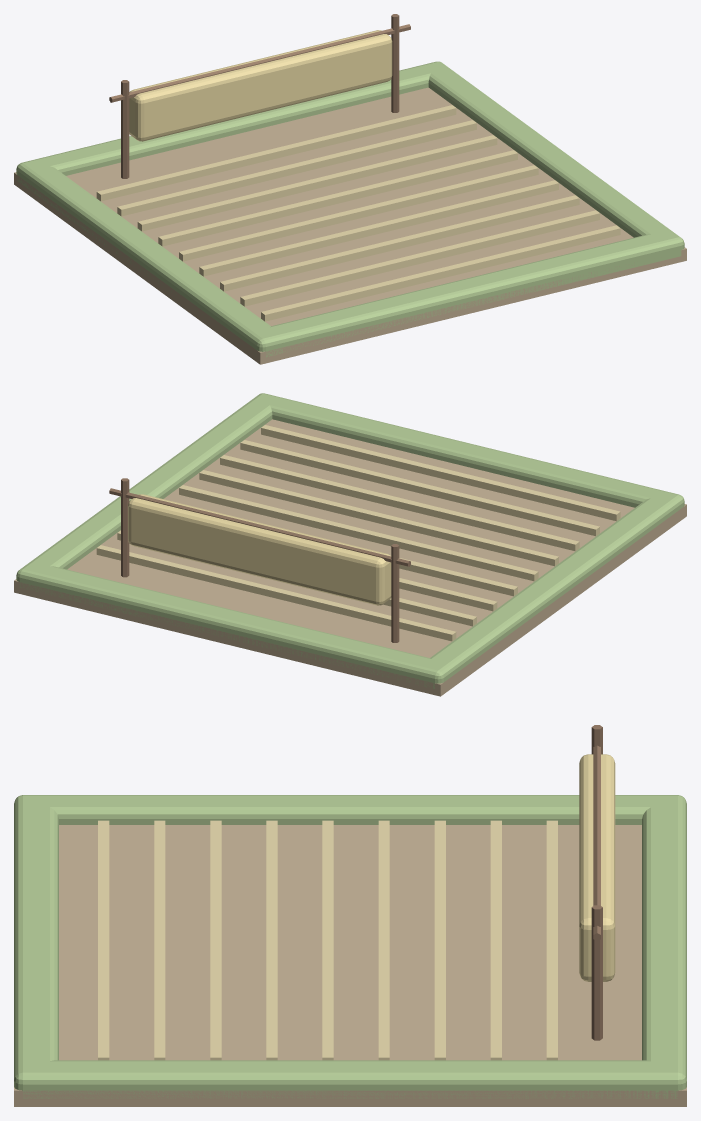
Rendered from paddy.glb.
The picture shows the model from 3 angles, top to bottom: view 1: azimuth 30°, elevation 25°; view 2: azimuth 150°, elevation 25°; view 3: azimuth 270°, elevation 25°; orthographic projection. The views are drawn at different scales.
Visible parts, largest first — view 1: paddy; view 2: paddy; view 3: paddy.
Part boxes in pixels (<box>): paddy: <box>14,14,686,364</box>; paddy: <box>14,393,686,696</box>; paddy: <box>14,725,686,1106</box>.
Size of the model in its own units: 6 by 1.45 by 6.
